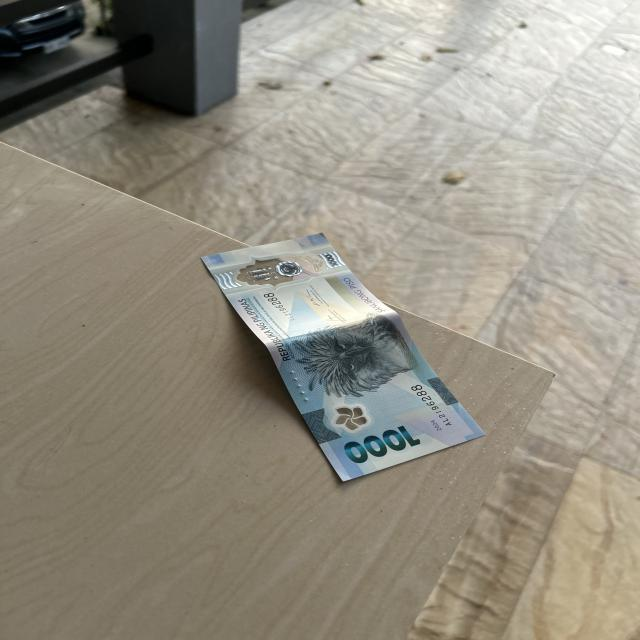clear_window: (228, 251, 354, 290)
eagle: (287, 327, 423, 385)
sampaguita: (335, 408, 367, 430)
